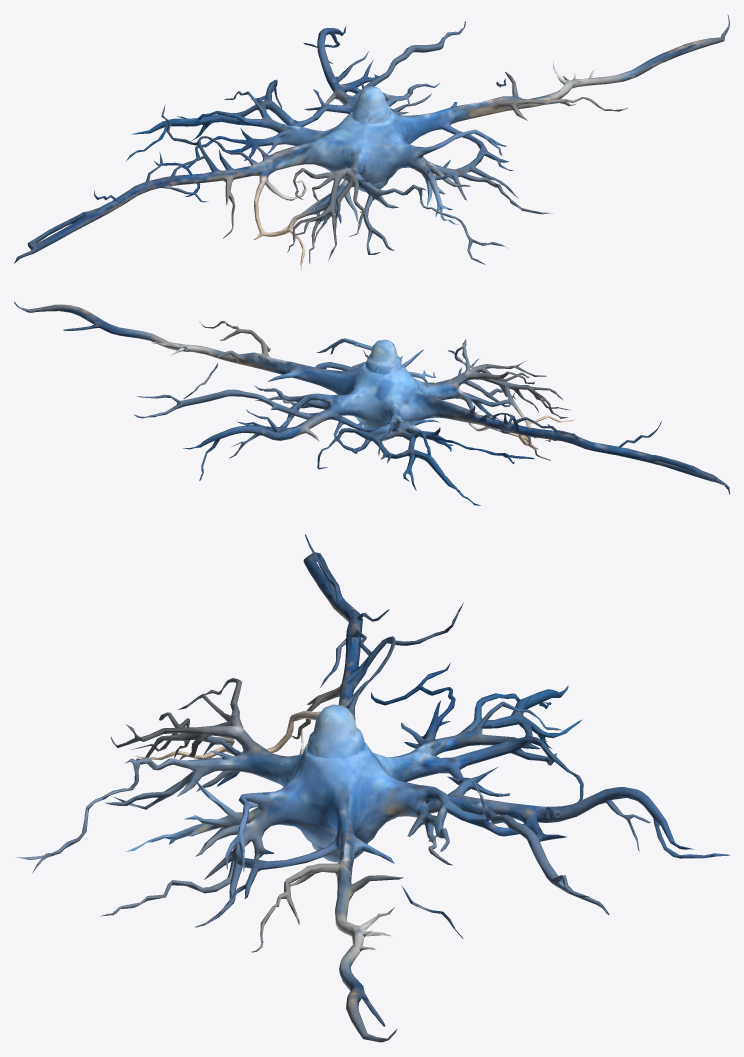
The model's file is neuronMesh.gltf.
3 views of the same model, one above another, from view 1: azimuth 30°, elevation 25°; view 2: azimuth 150°, elevation 25°; view 3: azimuth 270°, elevation 25° (orthographic). The views are drawn at different scales.
Visible parts, largest first — view 1: node_0; view 2: node_0; view 3: node_0.
Part boxes in pixels (x1,y1,x2,y2): node_0: [14, 15, 729, 271]; node_0: [14, 301, 729, 505]; node_0: [16, 534, 729, 1042].
Size of the model in its own units: 0.3095 by 0.0416 by 0.1751.
Materials: 1 (1 with a texture image).
